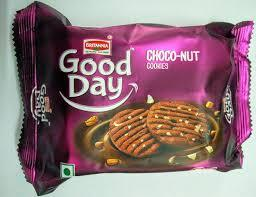VEG: (59, 162, 76, 178)
